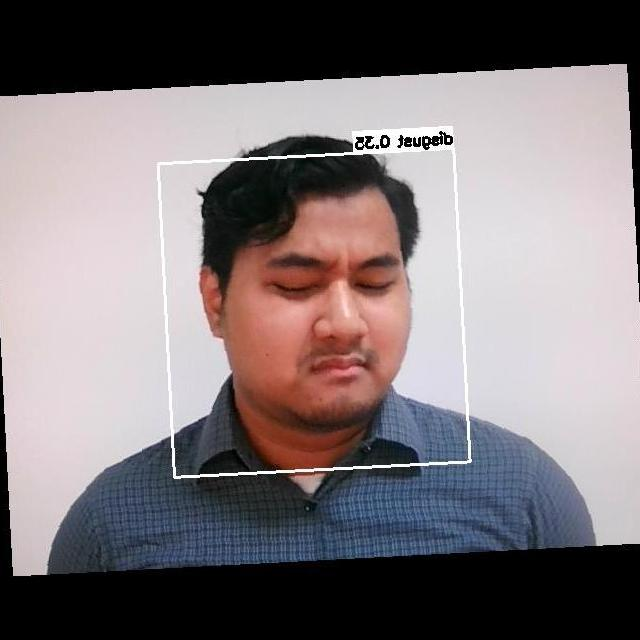Disgust: (243, 235, 410, 393)
